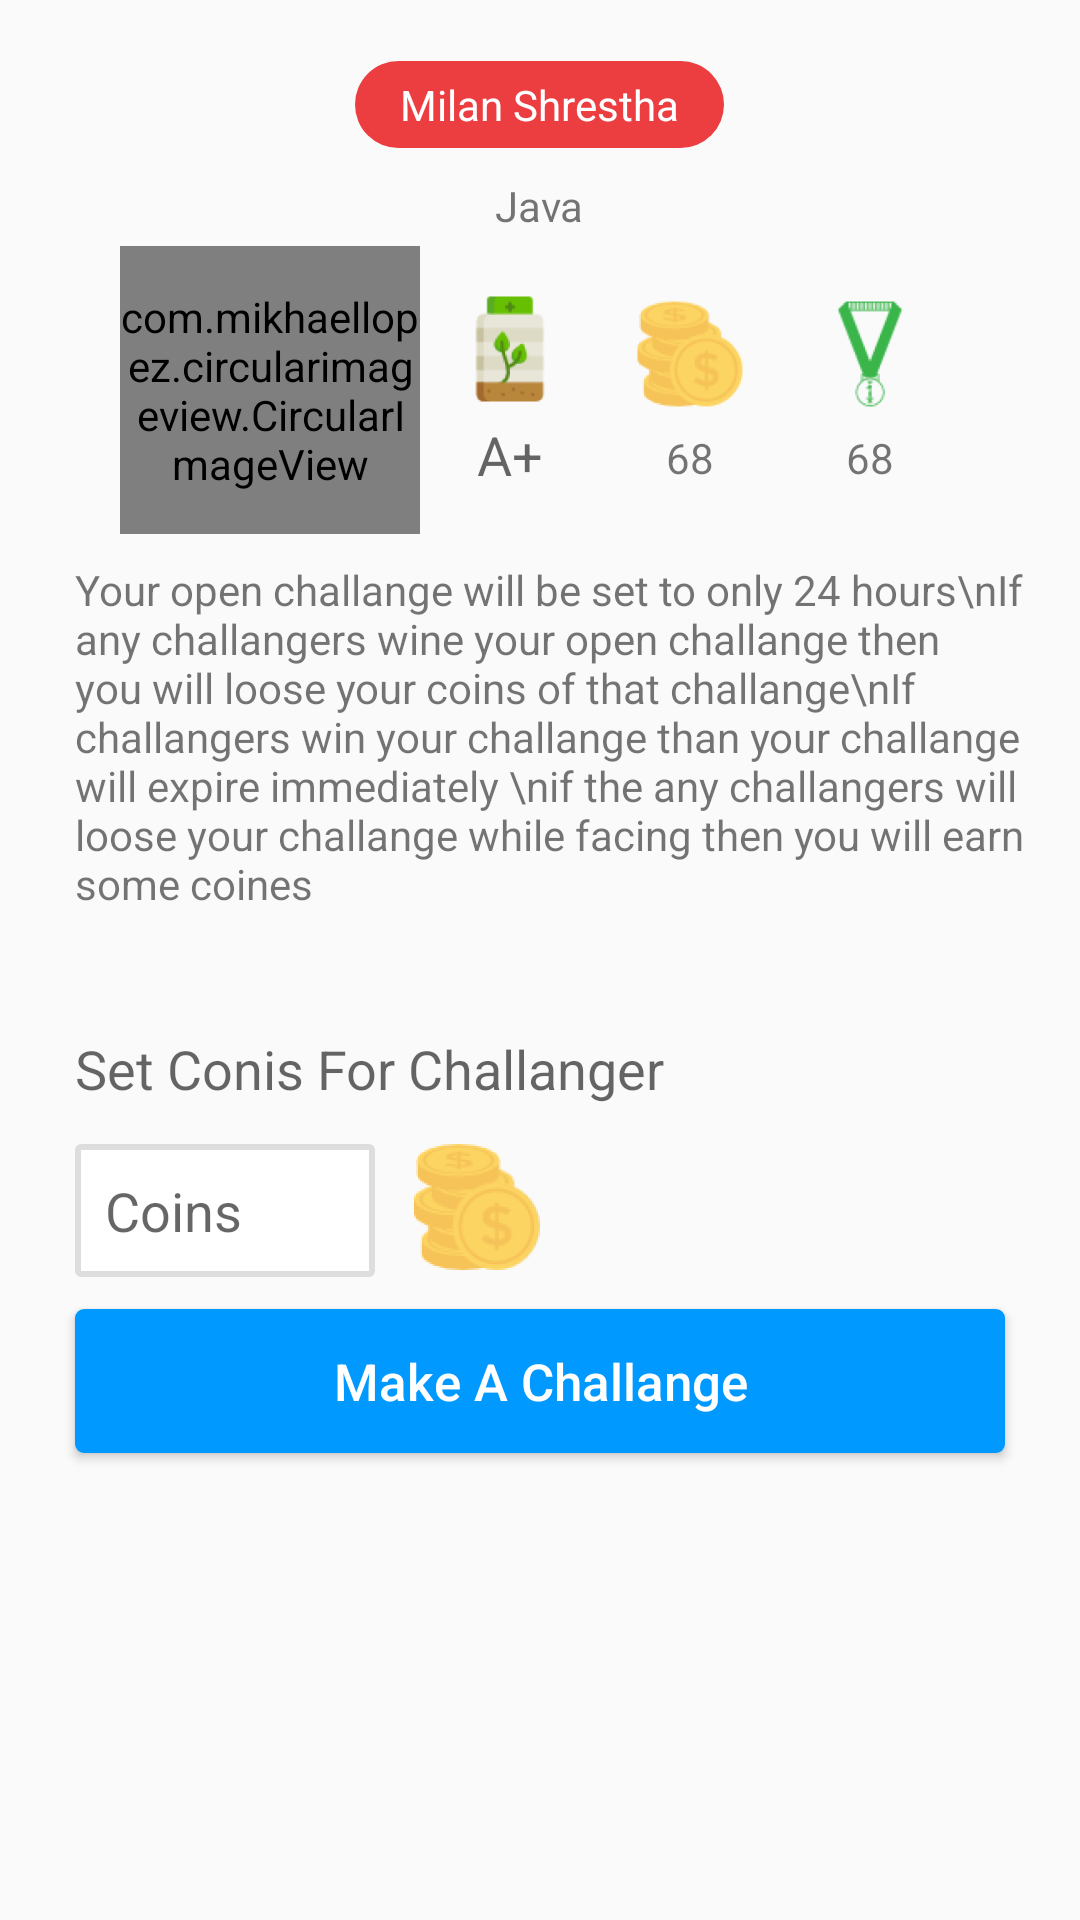

Screen size 1080px×1920px. Icon name, then its center in pixels as (x,y):
coines: (690,354), (477,1207)
